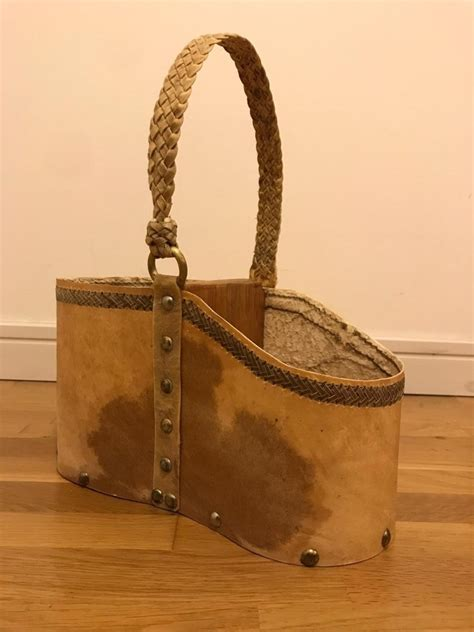cuero: (50, 28, 406, 570)
